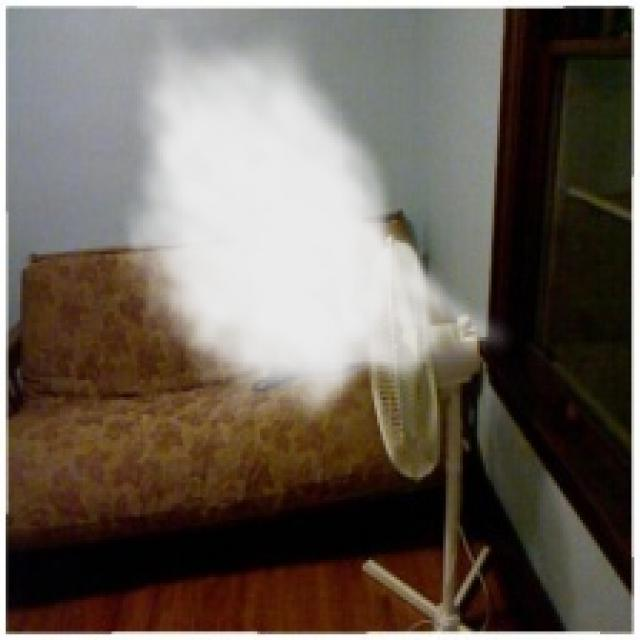smoke: (114, 14, 517, 432)
